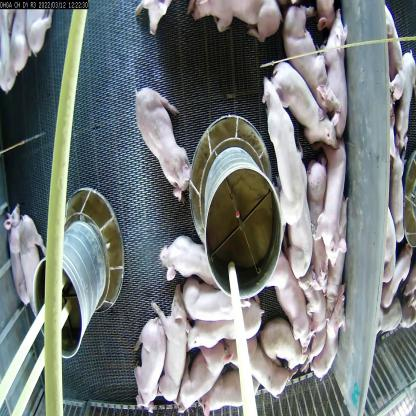Pig: (264, 60, 349, 153), (147, 275, 196, 409), (137, 90, 194, 194), (261, 91, 304, 224), (262, 250, 314, 344), (174, 260, 244, 326), (311, 286, 351, 388), (191, 0, 280, 44), (176, 343, 234, 408), (158, 221, 214, 288), (280, 13, 329, 88), (184, 307, 264, 347), (319, 137, 343, 268), (195, 369, 258, 416), (230, 323, 278, 384), (19, 213, 49, 306), (325, 18, 351, 124), (301, 268, 327, 367), (255, 313, 296, 367), (1, 196, 25, 286), (132, 310, 162, 381), (307, 151, 324, 275), (136, 0, 178, 29)
